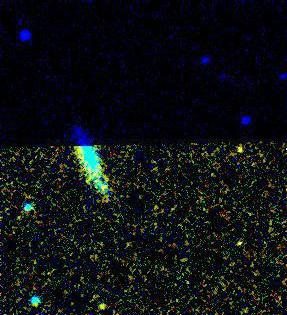star: (222, 136, 252, 166)
